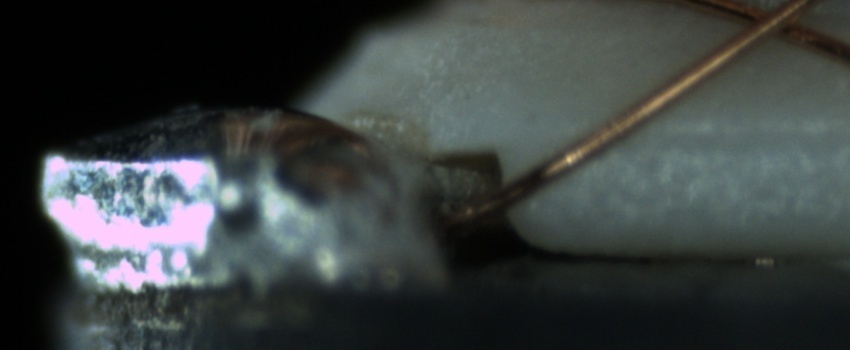CL: (725, 2, 822, 52)
DL: (610, 100, 840, 173)
